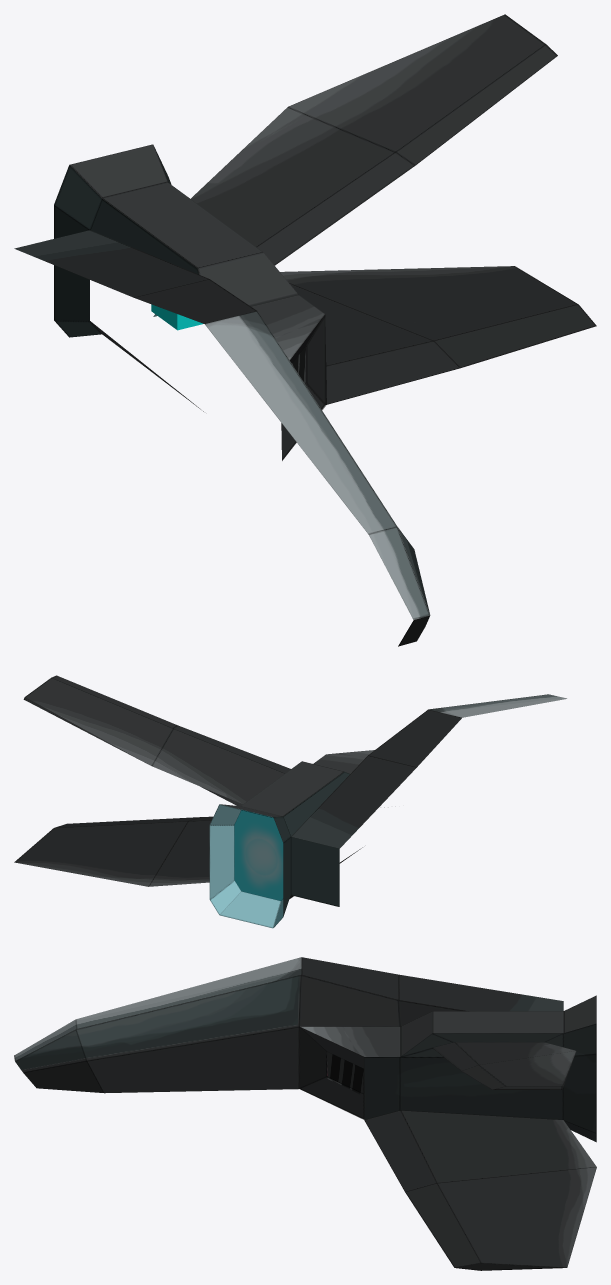
The model's file is DevShipHalf.glb.
3 views of the same model, one above another, from view 1: azimuth 30°, elevation 25°; view 2: azimuth 150°, elevation 25°; view 3: azimuth 270°, elevation 25° (orthographic). The views are drawn at different scales.
Visible parts, largest first — view 1: Cube.001; view 2: Cube.001; view 3: Cube.001.
Boxes of the visible parts, x1,y1,x2,y2 form: Cube.001: (14,14,596,646); Cube.001: (14,675,566,928); Cube.001: (14,957,596,1270).
Size of the model in its own units: 3.04 by 1.51 by 4.42.
2 materials, 1 textured.
